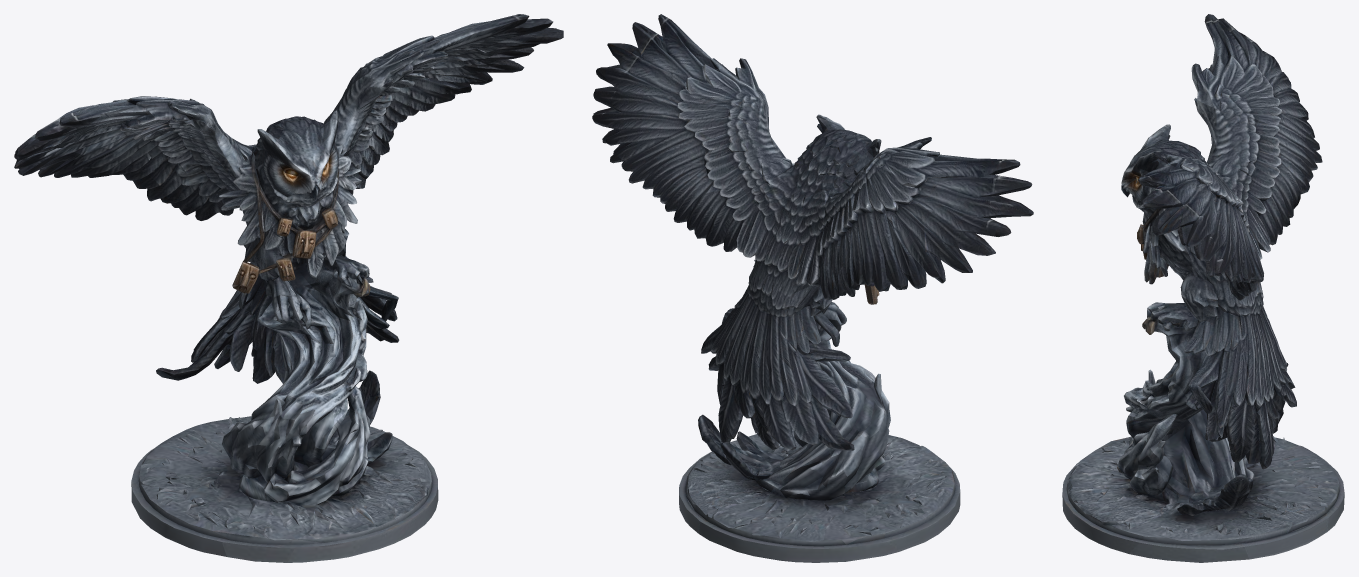
File: fylgja.glb
3 views of the same model, side by side, from view 1: azimuth 30°, elevation 25°; view 2: azimuth 150°, elevation 25°; view 3: azimuth 270°, elevation 25° (orthographic). The views are drawn at different scales.
Visible parts, largest first — view 1: output_unwrapped; view 2: output_unwrapped; view 3: output_unwrapped.
Part boxes in pixels (bbox=[...]): output_unwrapped: bbox=[14, 14, 563, 562]; output_unwrapped: bbox=[592, 14, 1033, 562]; output_unwrapped: bbox=[1062, 14, 1344, 562].
Bounding box in the file's own units: 1.9 × 1.64 × 1.
Materials: 1 (1 with a texture image).
